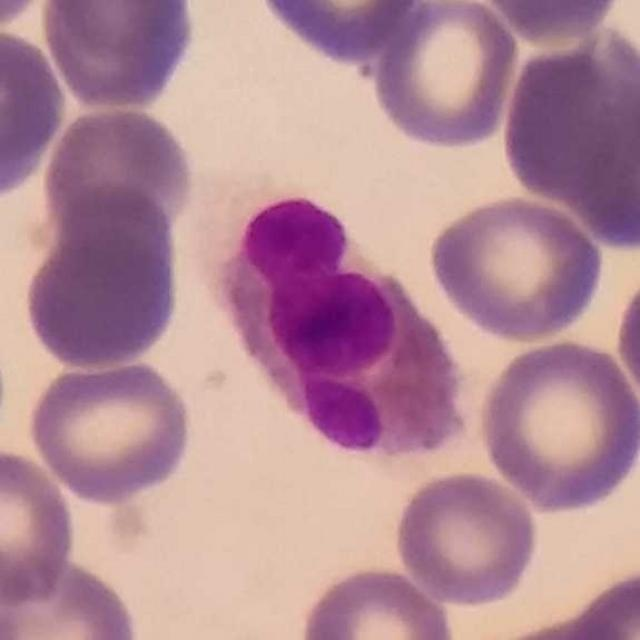eosino: (218, 194, 469, 459)
